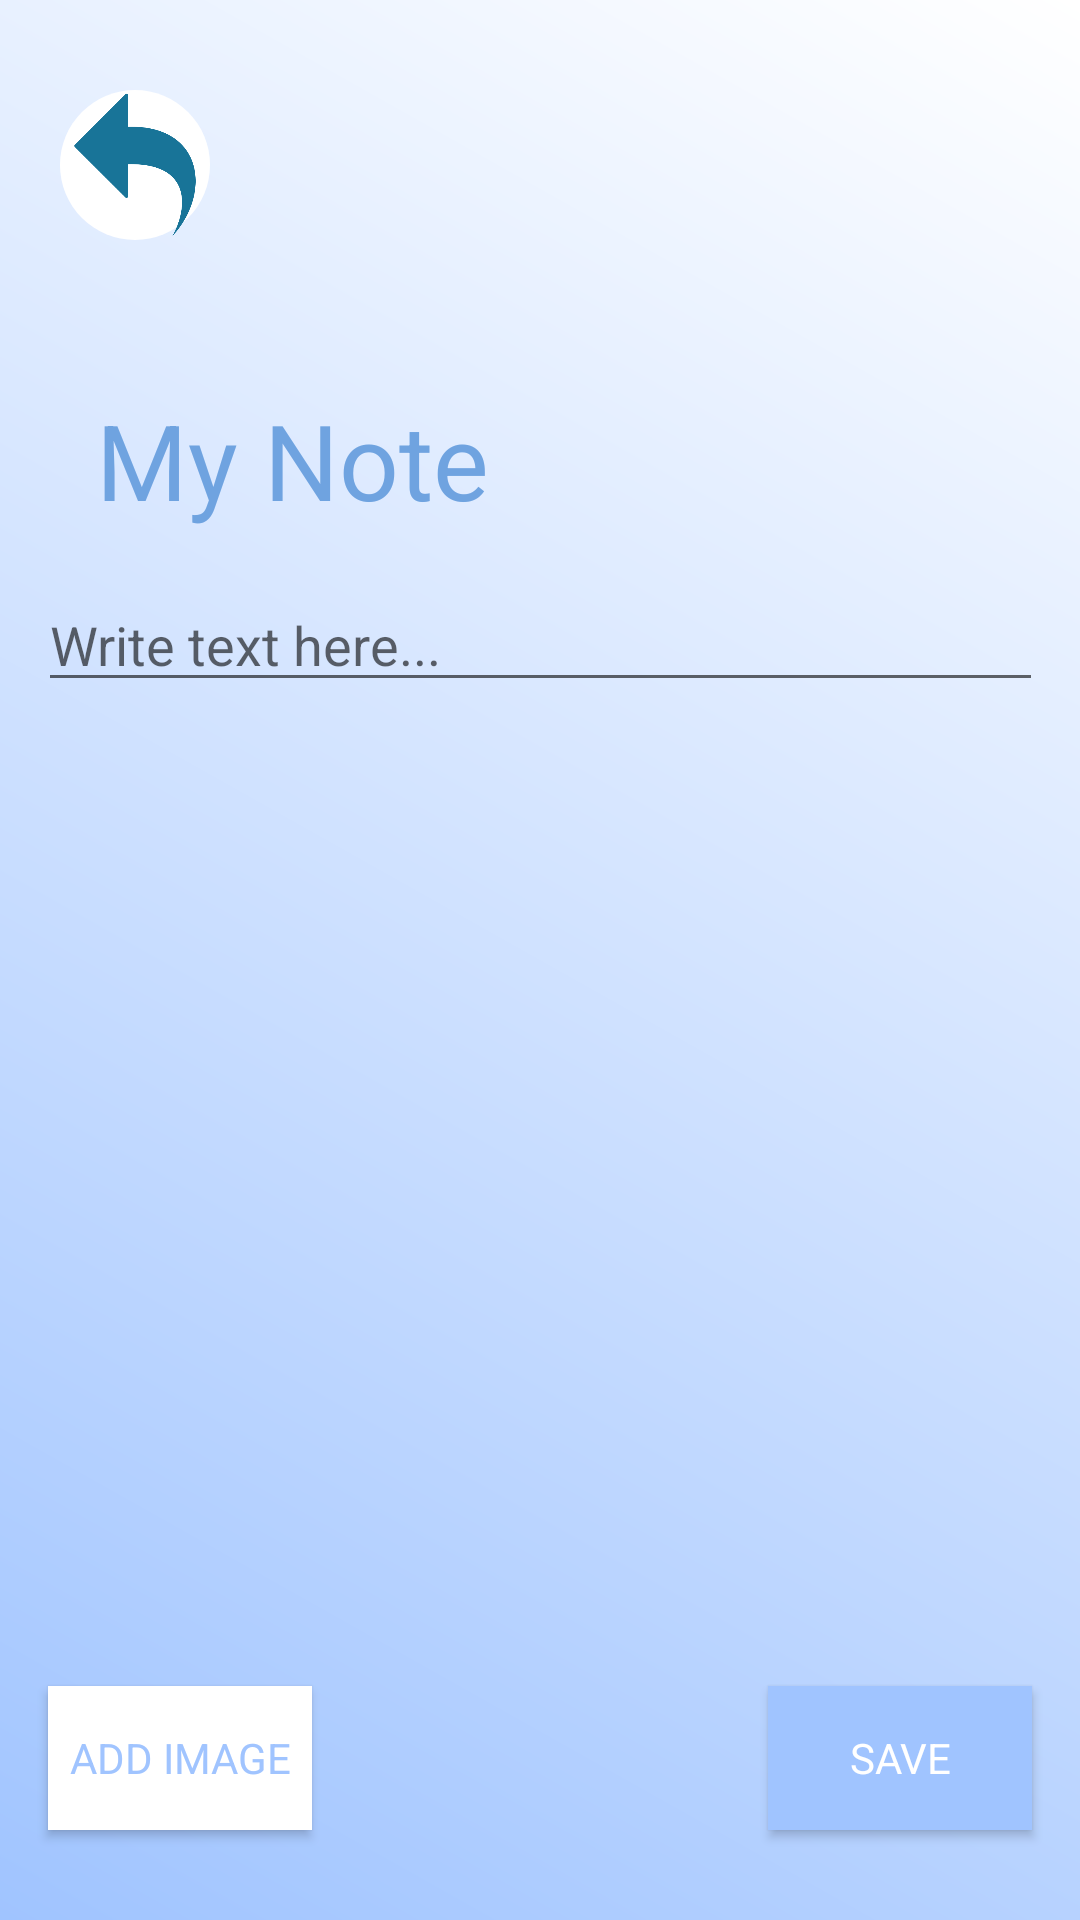

Icon click points for this 1080 x 1920 phone screenshot, format (x=x, y=y):
Back: (x=135, y=165)
